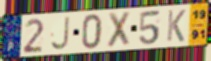0: (80, 13, 104, 51)
2: (22, 17, 46, 55)
5: (138, 9, 162, 47)
J: (49, 15, 71, 52)
K: (166, 9, 187, 43)
X: (105, 10, 132, 49)
